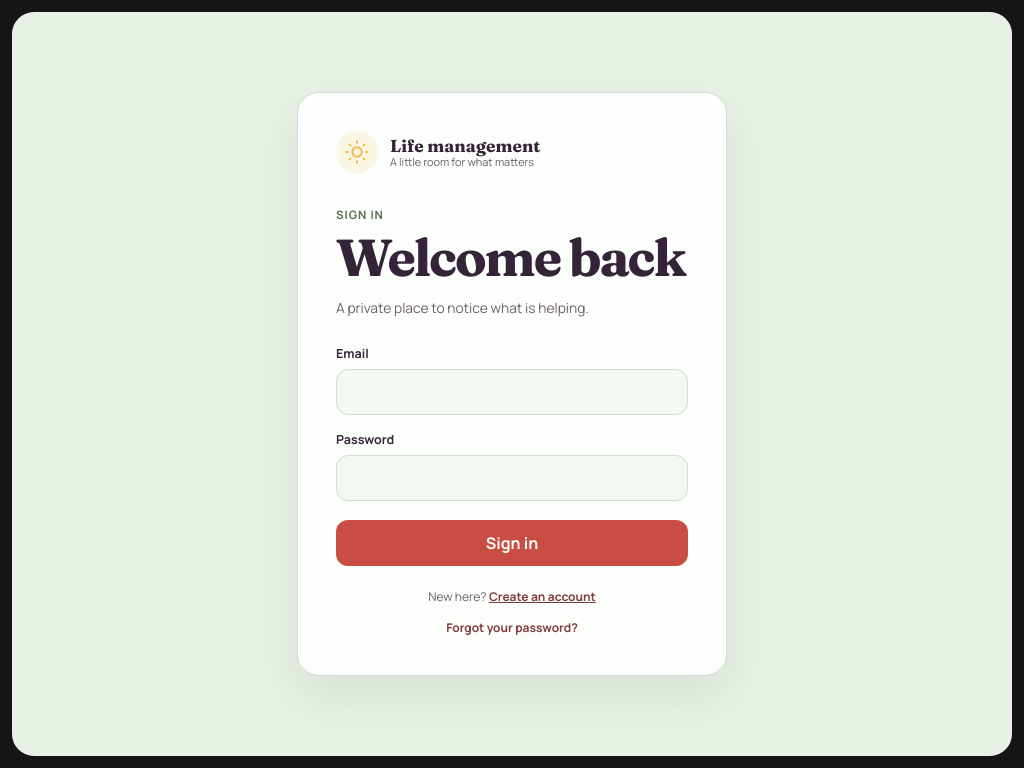
authentication forms › explains when sign-in still requires email confirmation
Type "stella@example.test" into the field labelled "Email" at [512, 392], box [336,369,688,415]
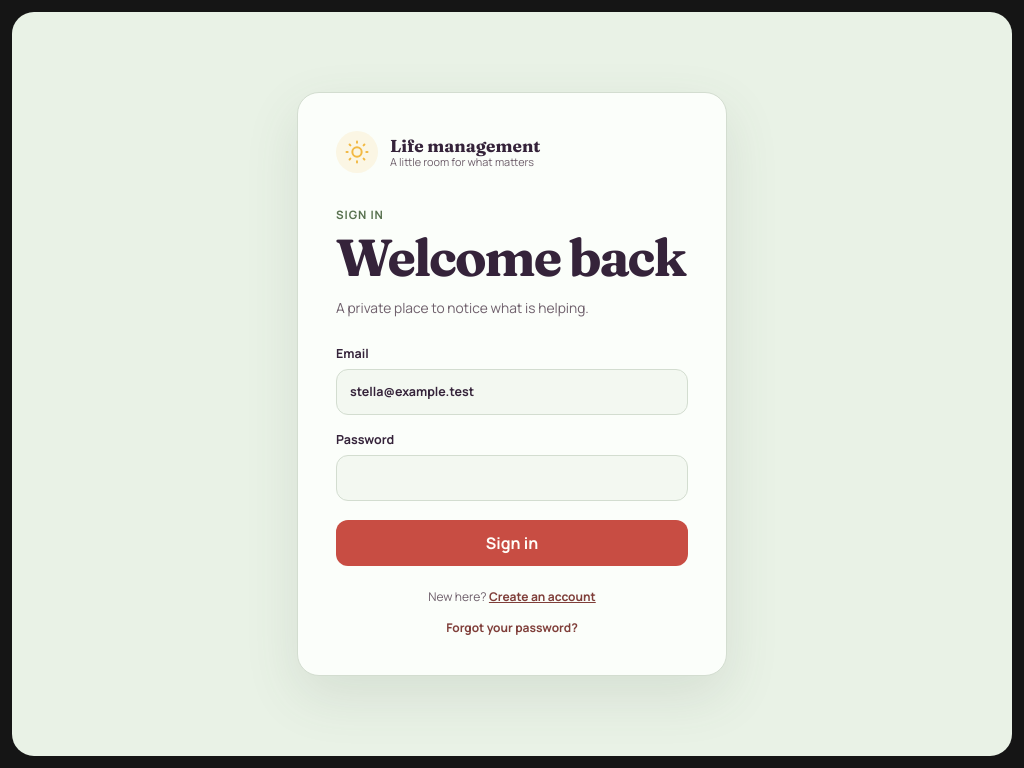
Type "correct horse battery staple" into the password field labelled "Password" at [512, 478], box [336,455,688,501]
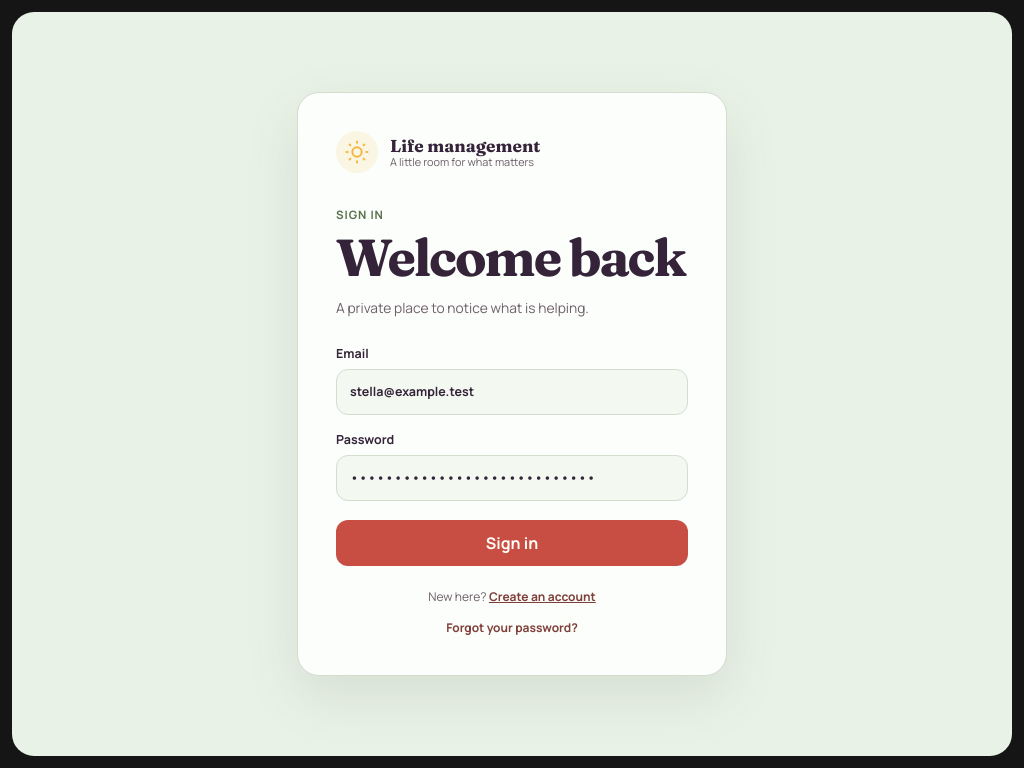
Click the button "Sign in" at [512, 543], box [336,520,688,566]
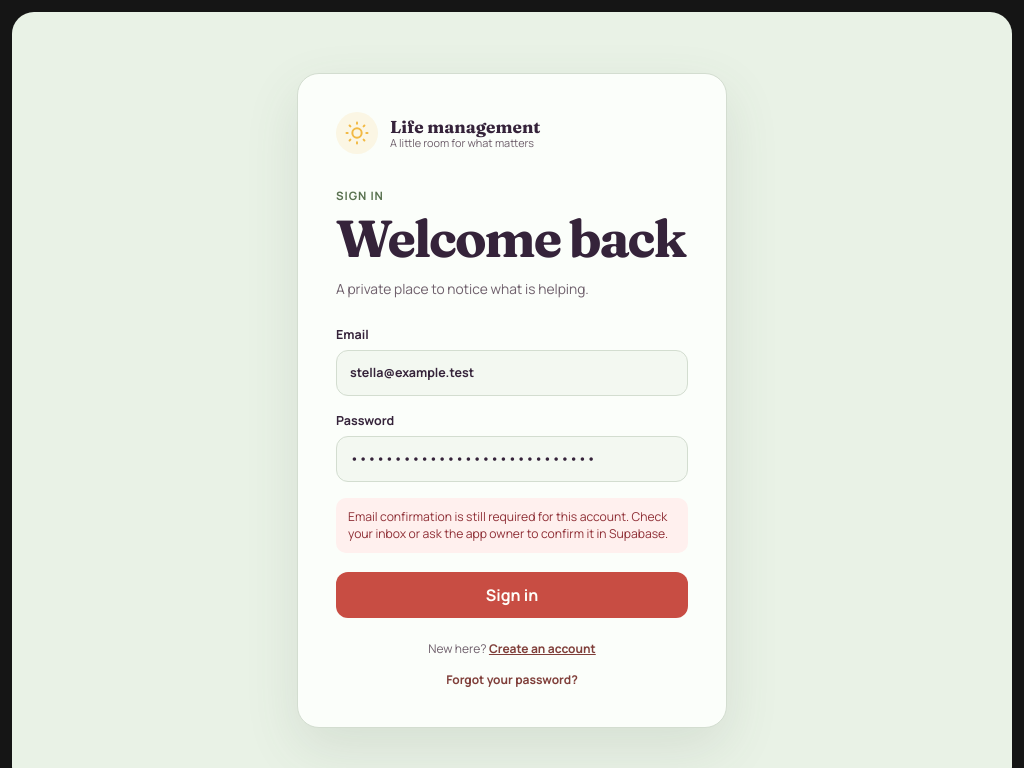
Result: the message shows "Email confirmation is still required" at [348,508,668,542]
